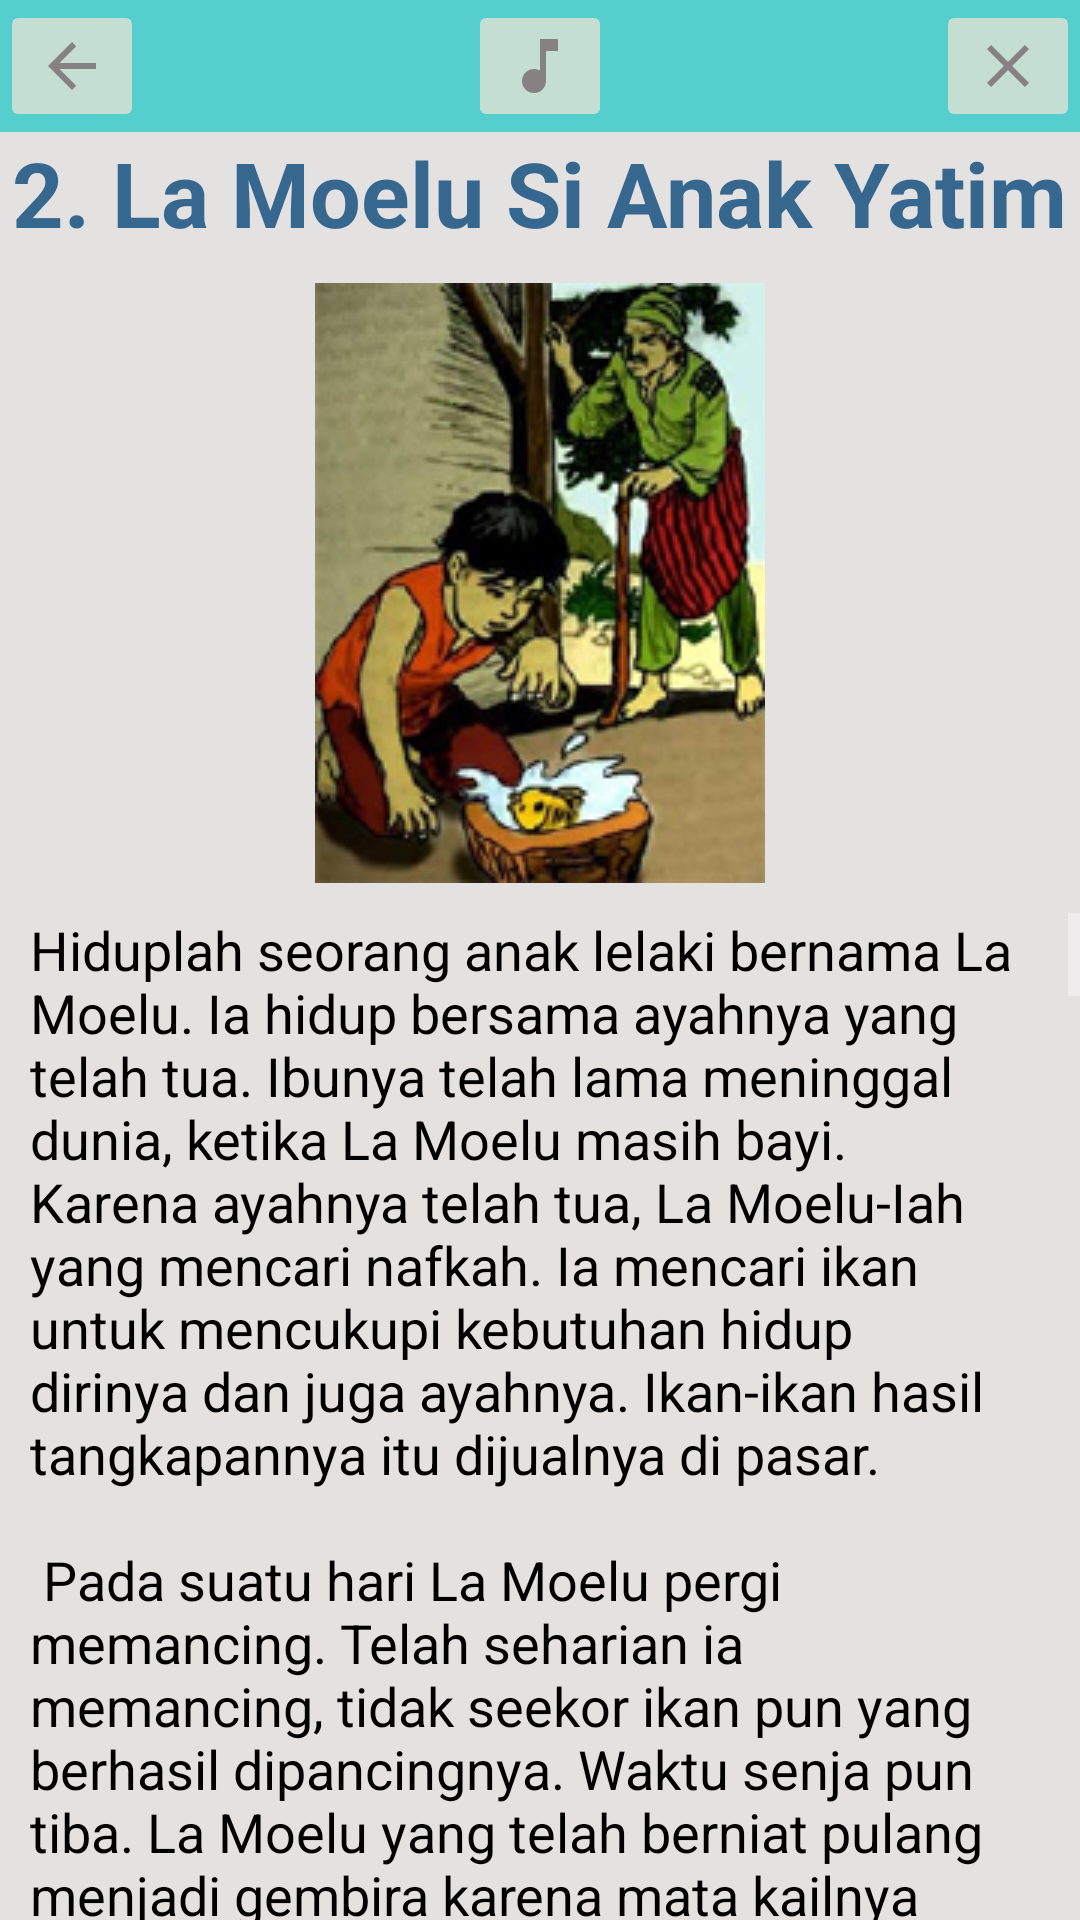

Screen size 1080*1920. Icon name, then its center in pixels as [x,y]:
arrow back: [72,66]
close: [1008,66]
music note: [540,66]
